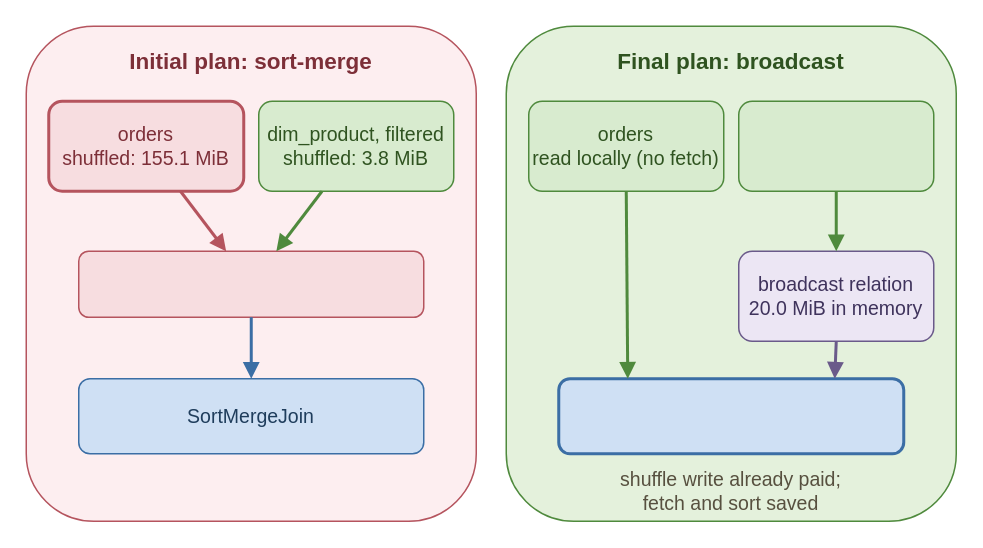
Image size: 983x548. Some labels were removed from this diagram. Each missing label, with the centre of its shape:
BroadcastHashJoin: the point at 730,415
dim_product 3.8 MiB measured: the point at 835,145
sort both sides: the point at 250,283
